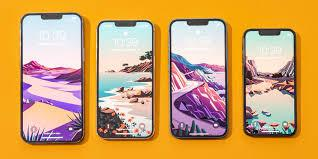Smartphone: (22, 15, 84, 144), (97, 19, 154, 140)
